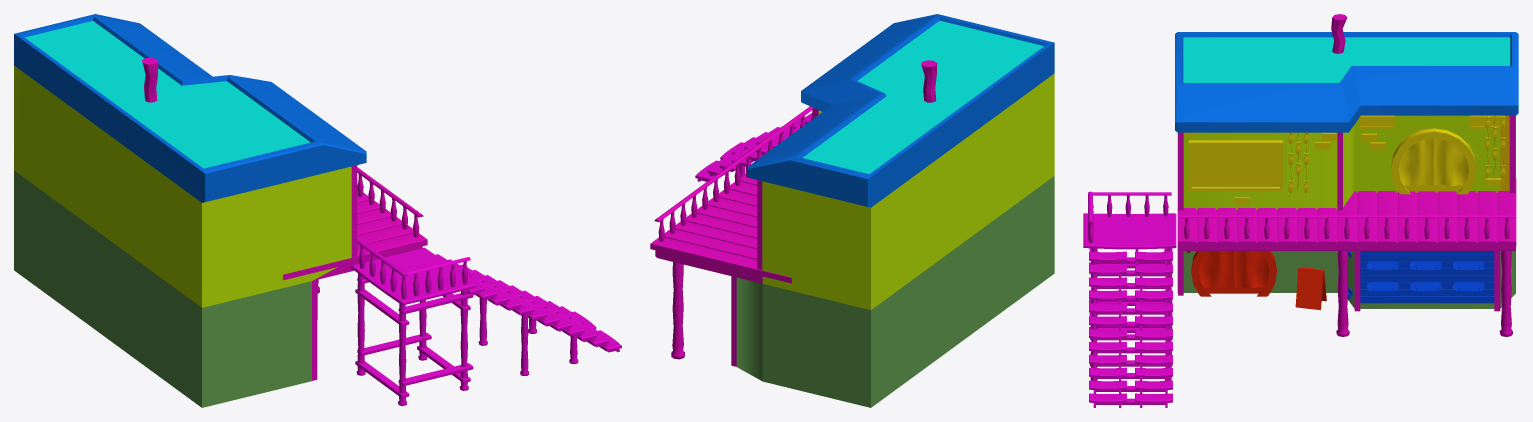
Rendered from ShopA.fbx.
The picture shows the model from 3 angles, left to right: view 1: azimuth 30°, elevation 25°; view 2: azimuth 150°, elevation 25°; view 3: azimuth 270°, elevation 25°; orthographic projection. The views are drawn at different scales.
Parts seen in each view (by area): view 1: MasterBuilding_A, StairCase1; view 2: MasterBuilding_A, StairCase1; view 3: MasterBuilding_A, StairCase1, FishingShop, SkateShop2, SkateShop1.
Part boxes in pixels (<box>): MasterBuilding_A: <box>14,14,427,407</box>; StairCase1: <box>351,240,621,405</box>; MasterBuilding_A: <box>650,14,1054,407</box>; StairCase1: <box>695,113,811,181</box>; MasterBuilding_A: <box>1175,14,1518,336</box>; StairCase1: <box>1083,191,1176,407</box>; FishingShop: <box>1183,115,1505,204</box>; SkateShop2: <box>1348,251,1494,303</box>; SkateShop1: <box>1186,251,1326,309</box>.
Size of the model in its own units: 53.89 by 37.67 by 60.72.
